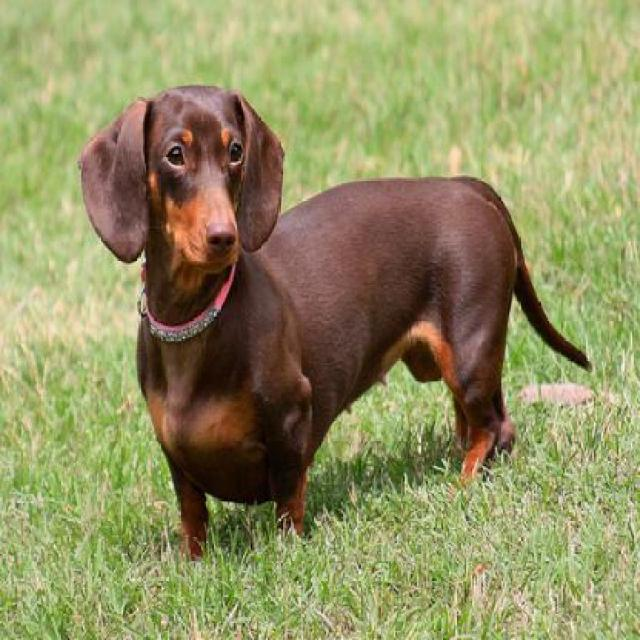Dog: (75, 63, 594, 577)
